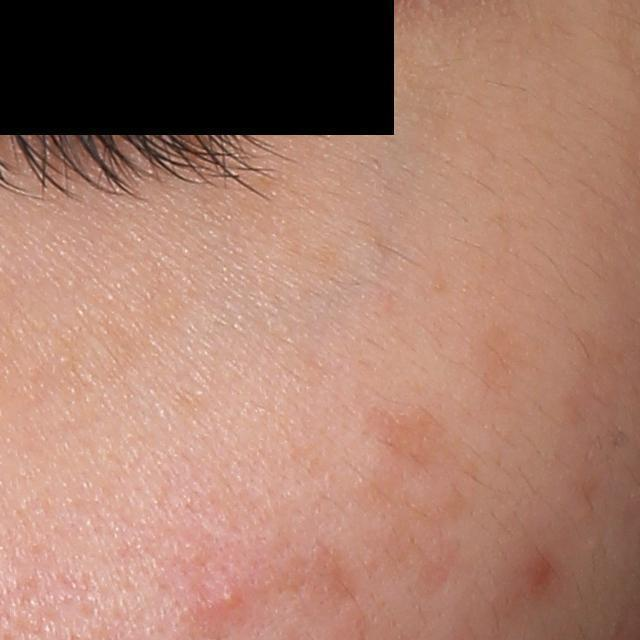melasma: (365, 399, 462, 475), (468, 320, 538, 403)
